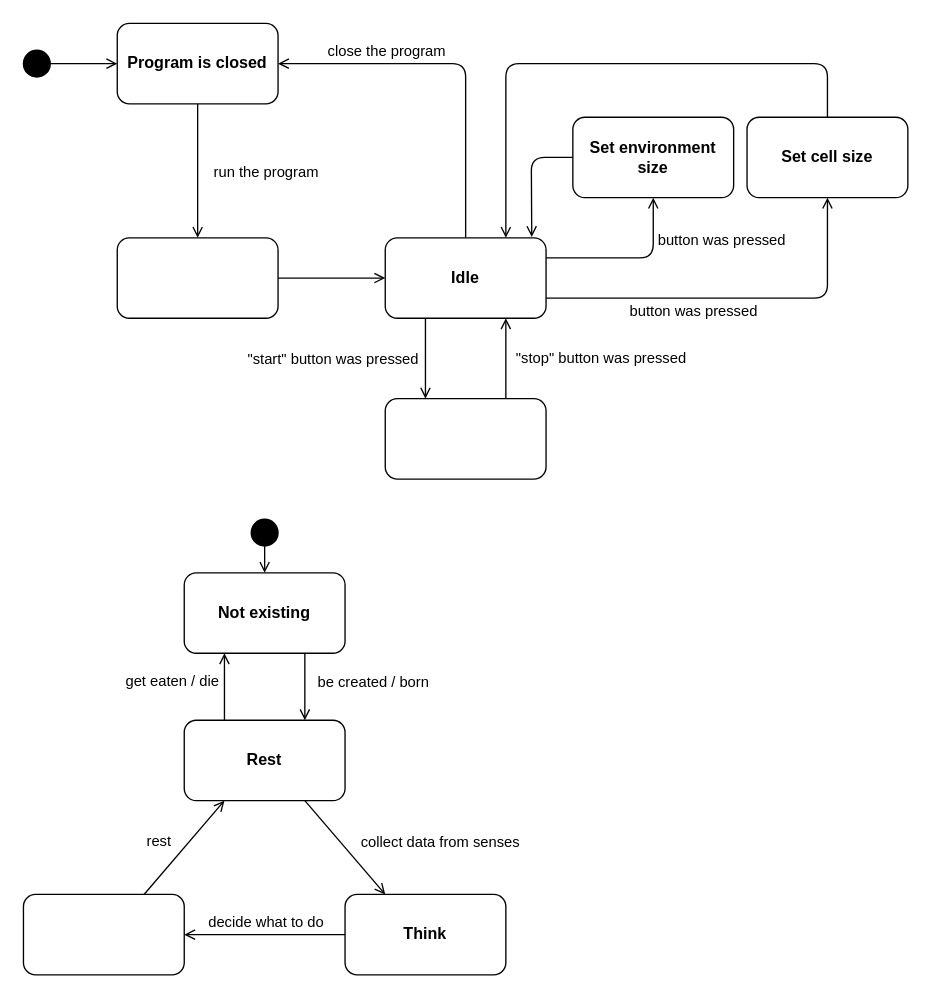
Image size: 931x998. Some labels were removed from this diagram. Each missing label, with the centre of its shape:
"Do action" belongs at point 103,934.
"Load window layout" belongs at point 197,277.
"Update environment" belongs at point 465,438.
